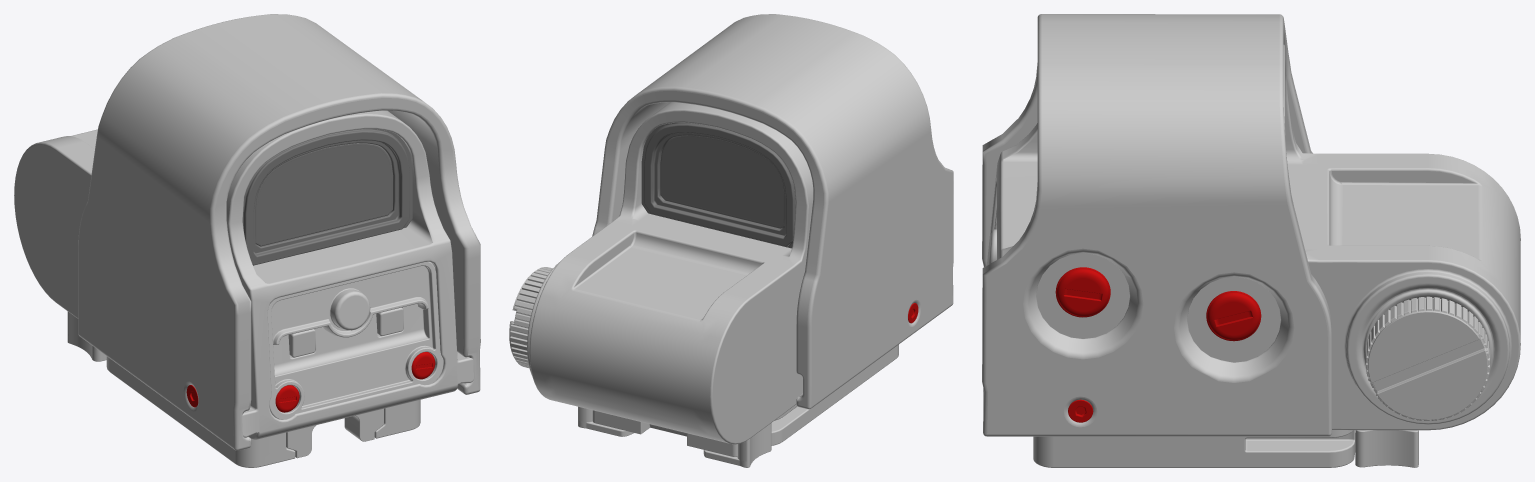
File: holosight_high.fbx
3 renders of one model, left to right at view 1: azimuth 30°, elevation 25°; view 2: azimuth 150°, elevation 25°; view 3: azimuth 270°, elevation 25°, orthographic. The views are drawn at different scales.
Parts seen in each view (by area): view 1: outter_high, body_high, front_high, optics_high, rail_latches_high; view 2: outter_high, body_high, optics_high, rail_latches_high, dial_high; view 3: outter_high, body_high, rail_latches_high, dial_high.
Boxes of the visible parts, <box> form: outter_high: <box>78,14,480,450</box>; body_high: <box>14,110,473,439</box>; front_high: <box>267,261,443,419</box>; optics_high: <box>242,129,412,265</box>; rail_latches_high: <box>67,311,420,467</box>; outter_high: <box>592,14,953,409</box>; body_high: <box>527,102,813,444</box>; optics_high: <box>641,122,795,248</box>; rail_latches_high: <box>578,344,898,467</box>; dial_high: <box>509,267,552,367</box>; outter_high: <box>982,14,1331,436</box>; body_high: <box>983,45,1520,430</box>; rail_latches_high: <box>1033,430,1418,467</box>; dial_high: <box>1366,296,1489,420</box>.
Bounding box in the file's own units: 44.21 × 55.98 × 72.11.
